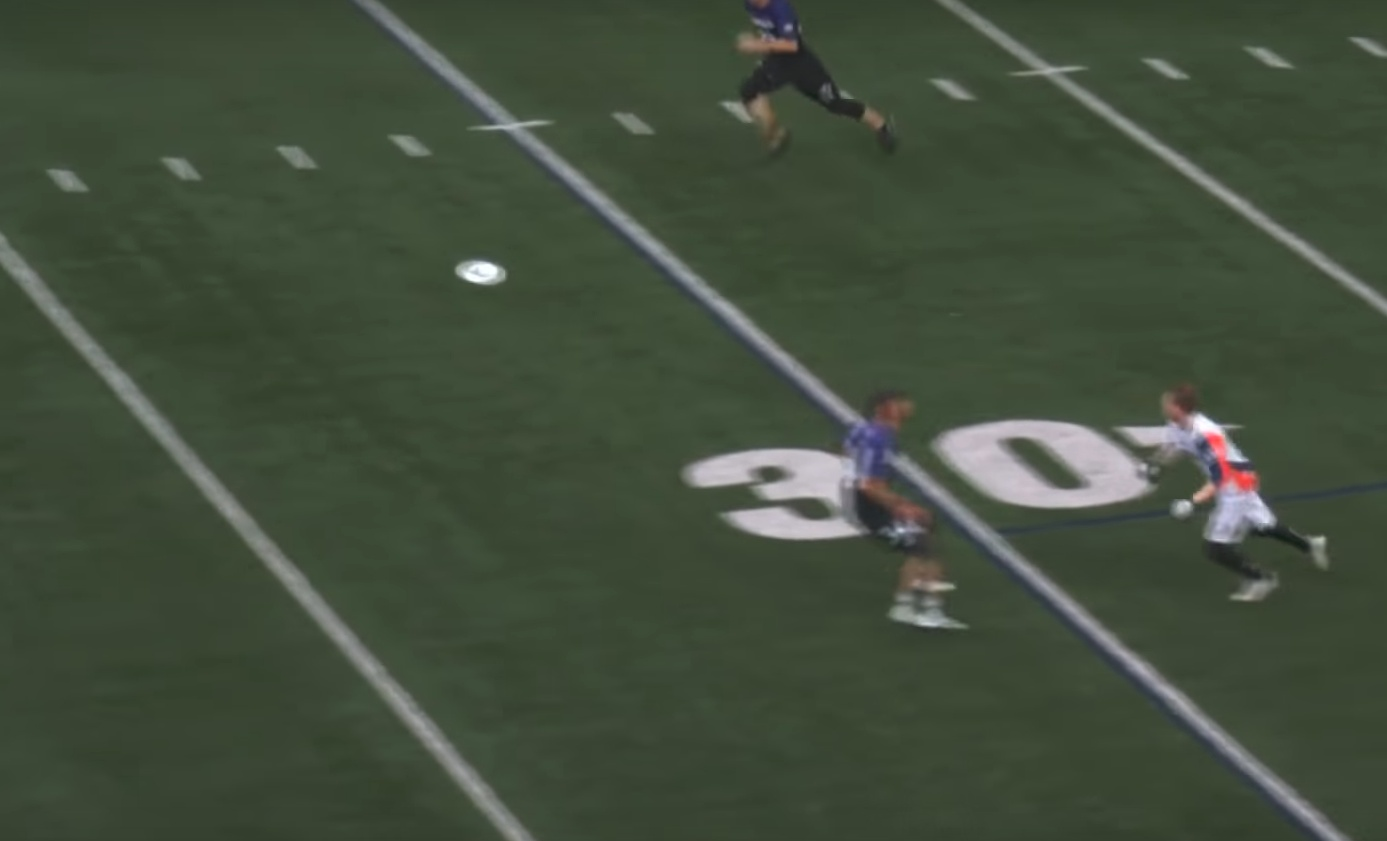frisbee: (452, 258, 507, 286)
